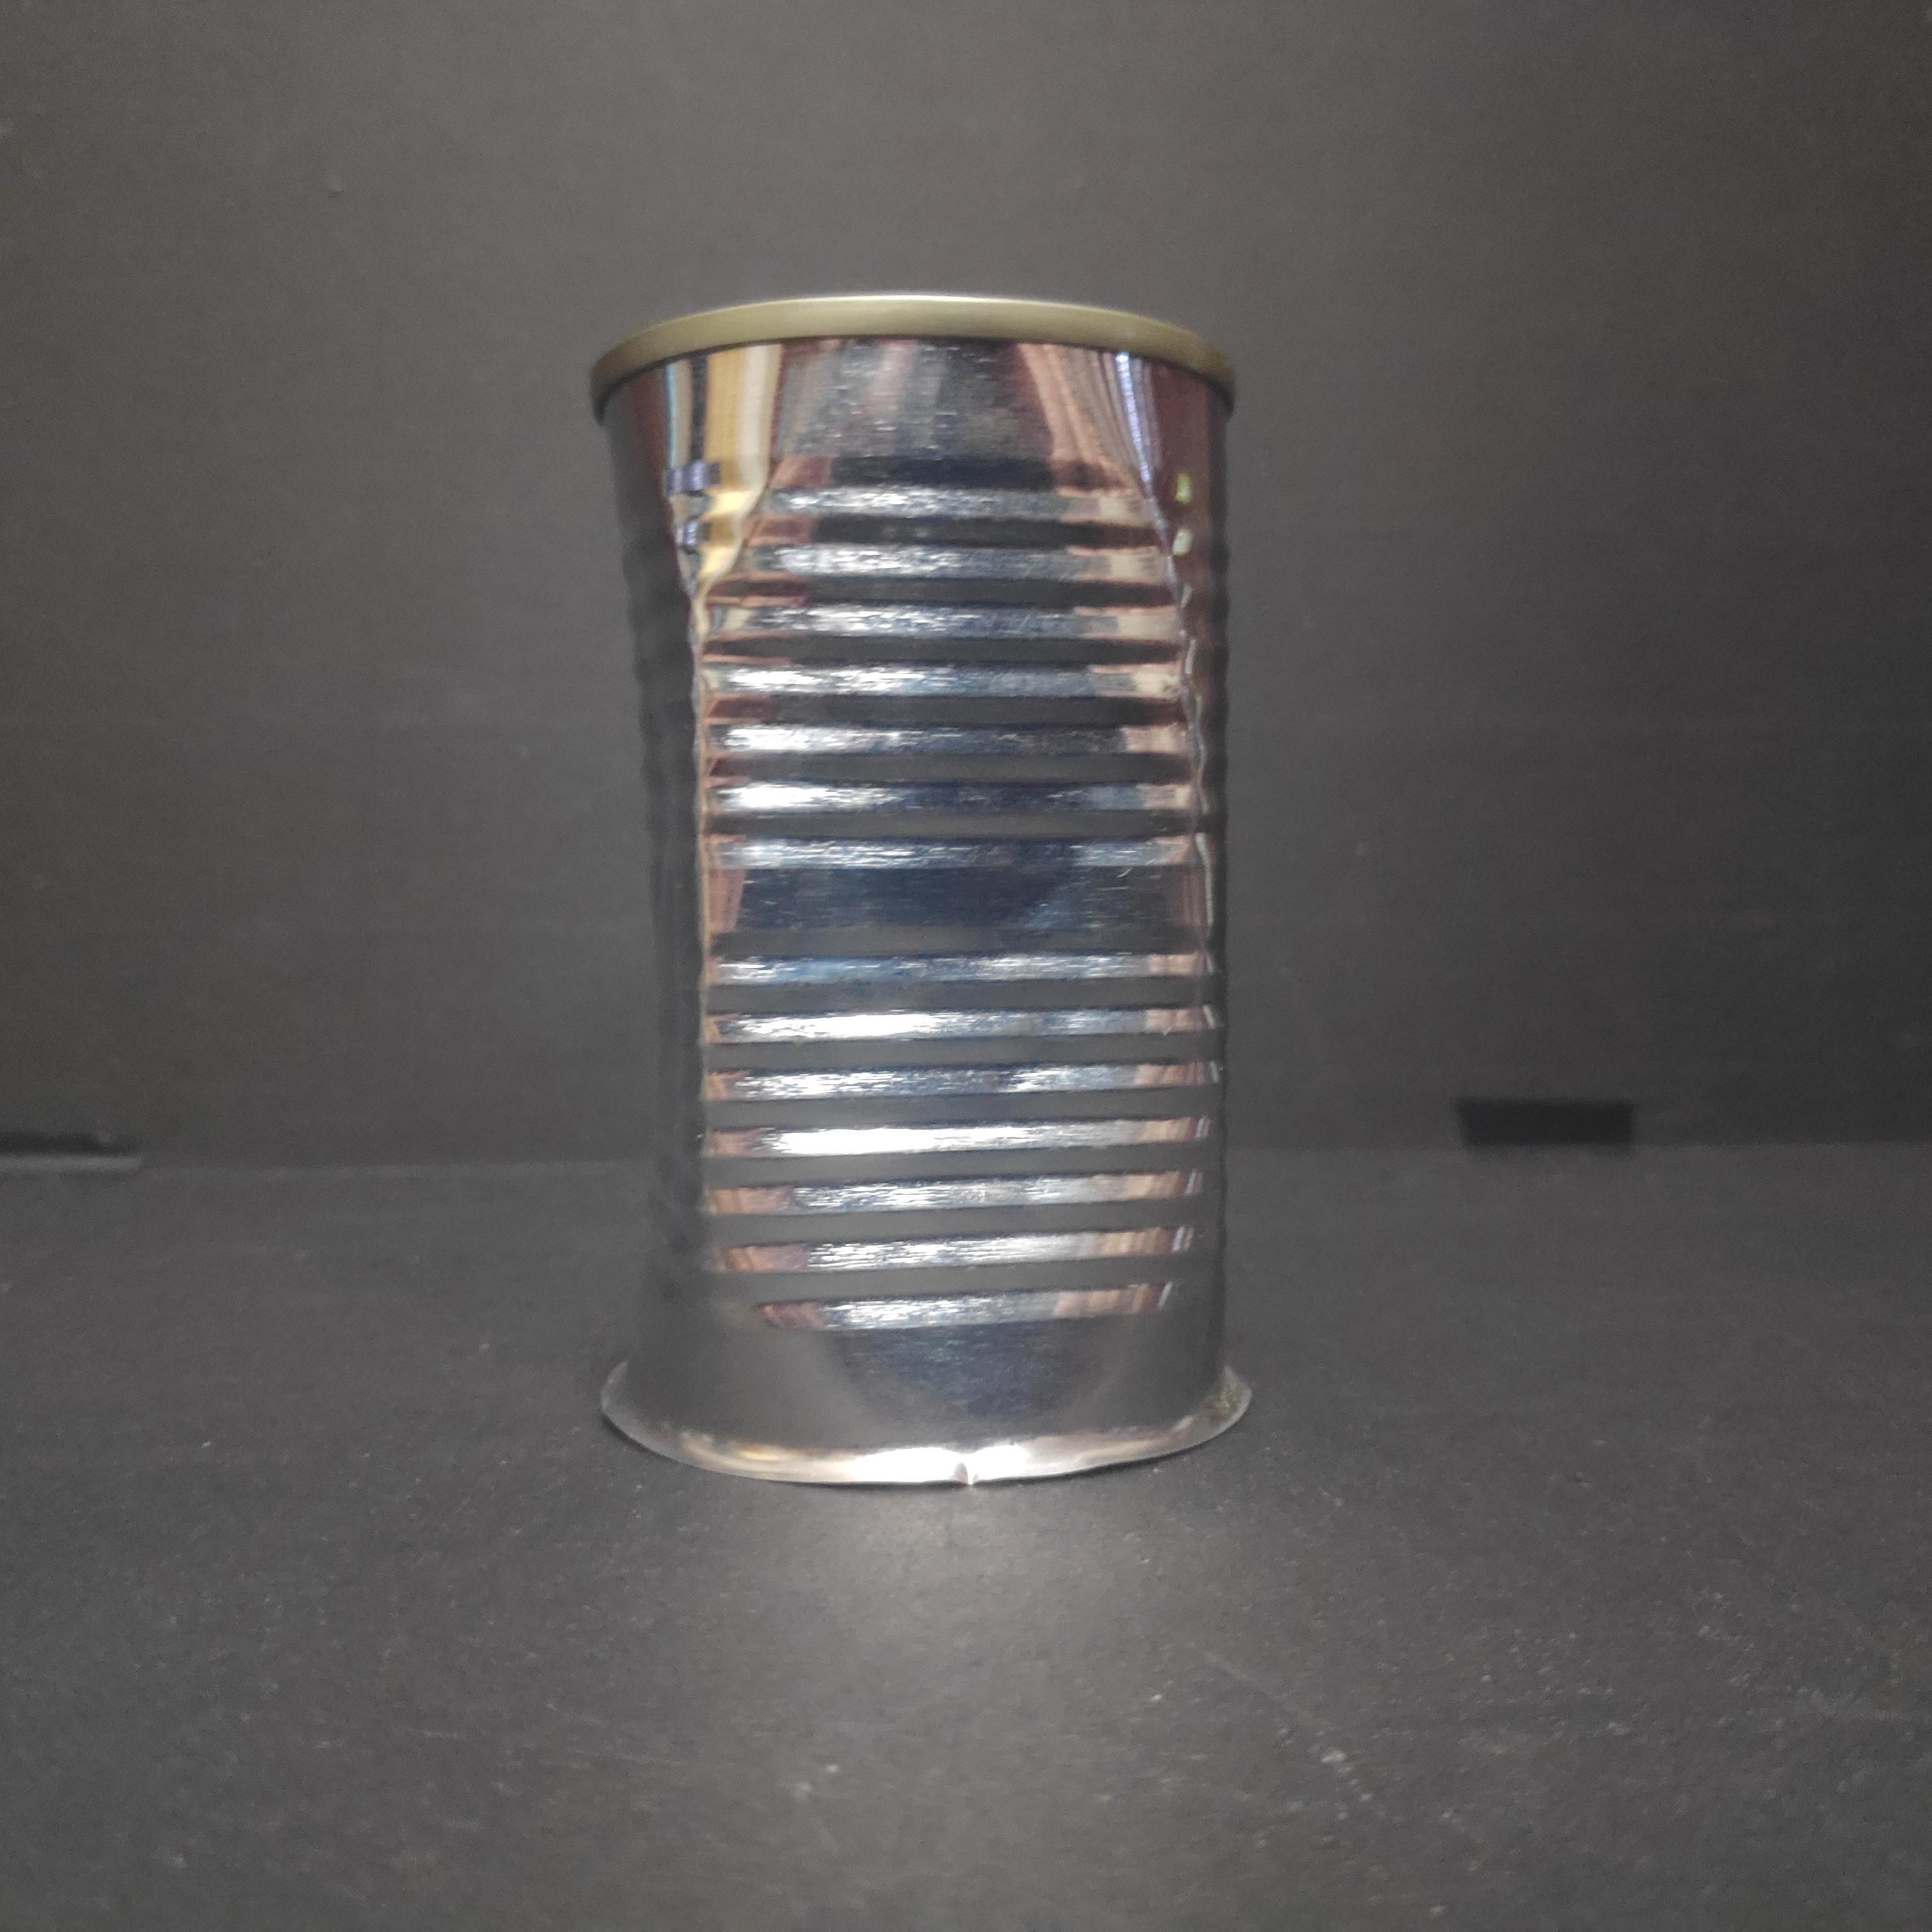Dented: (575, 262, 1293, 1520)
